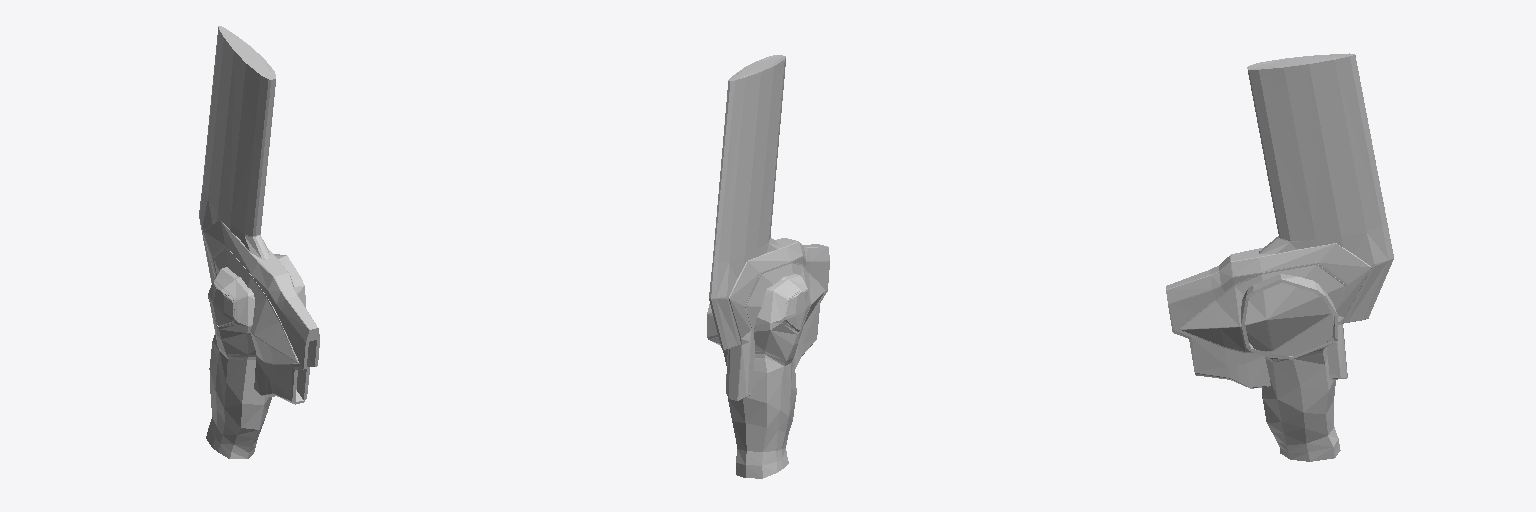
Rendered from righthand.obj.
The picture shows the model from 3 angles: view 1: azimuth 30°, elevation 25°; view 2: azimuth 150°, elevation 25°; view 3: azimuth 270°, elevation 25°; orthographic projection.
Parts seen in each view (by area): view 1: righthand_EVA01_upload.001; view 2: righthand_EVA01_upload.001; view 3: righthand_EVA01_upload.001.
Boxes of the visible parts, <box> form: righthand_EVA01_upload.001: <box>199,26,319,458</box>; righthand_EVA01_upload.001: <box>707,55,829,478</box>; righthand_EVA01_upload.001: <box>1166,53,1393,461</box>.
Size of the model in its own units: 2.38 by 13.05 by 6.67.